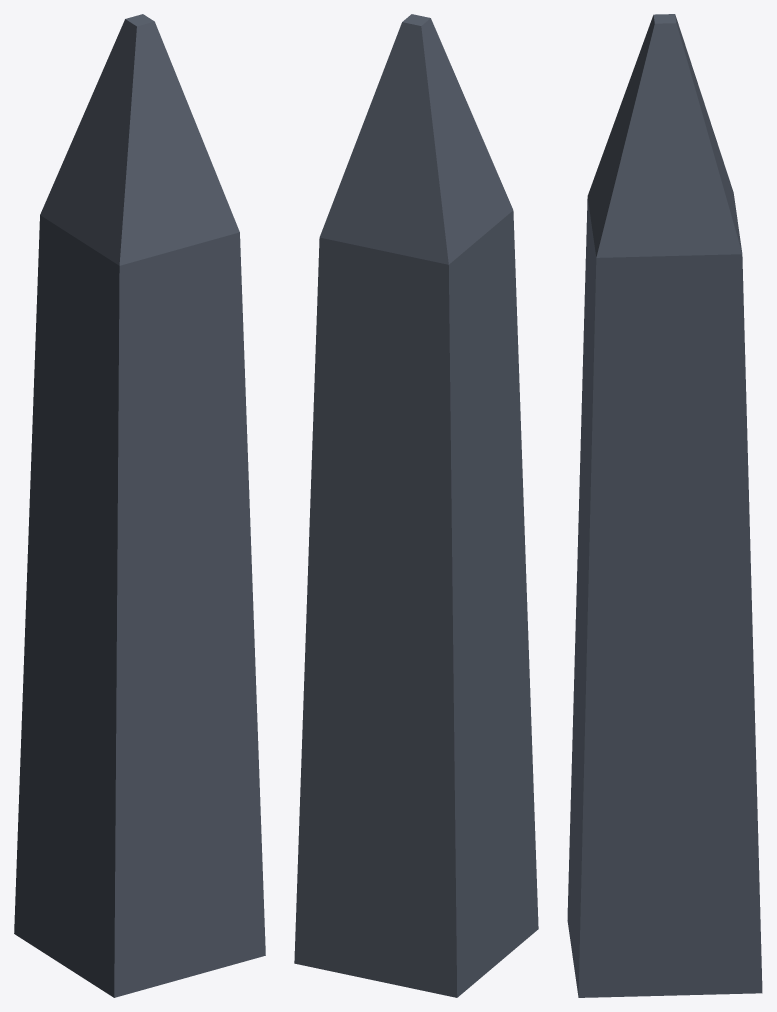
File: EXT_Obelisk_01_Body.glb
The picture shows the model from 3 angles, left to right: view 1: azimuth 30°, elevation 25°; view 2: azimuth 150°, elevation 25°; view 3: azimuth 270°, elevation 25°; orthographic projection.
Visible parts, largest first — view 1: EXT_Obelisk_01_Body; view 2: EXT_Obelisk_01_Body; view 3: EXT_Obelisk_01_Body.
Boxes of the visible parts, left/top/right/bottom form: EXT_Obelisk_01_Body: left=14, top=14, right=265, bottom=997; EXT_Obelisk_01_Body: left=294, top=14, right=538, bottom=997; EXT_Obelisk_01_Body: left=567, top=14, right=762, bottom=997.
Bounding box in the file's own units: 1.02 × 5.4 × 1.02.
